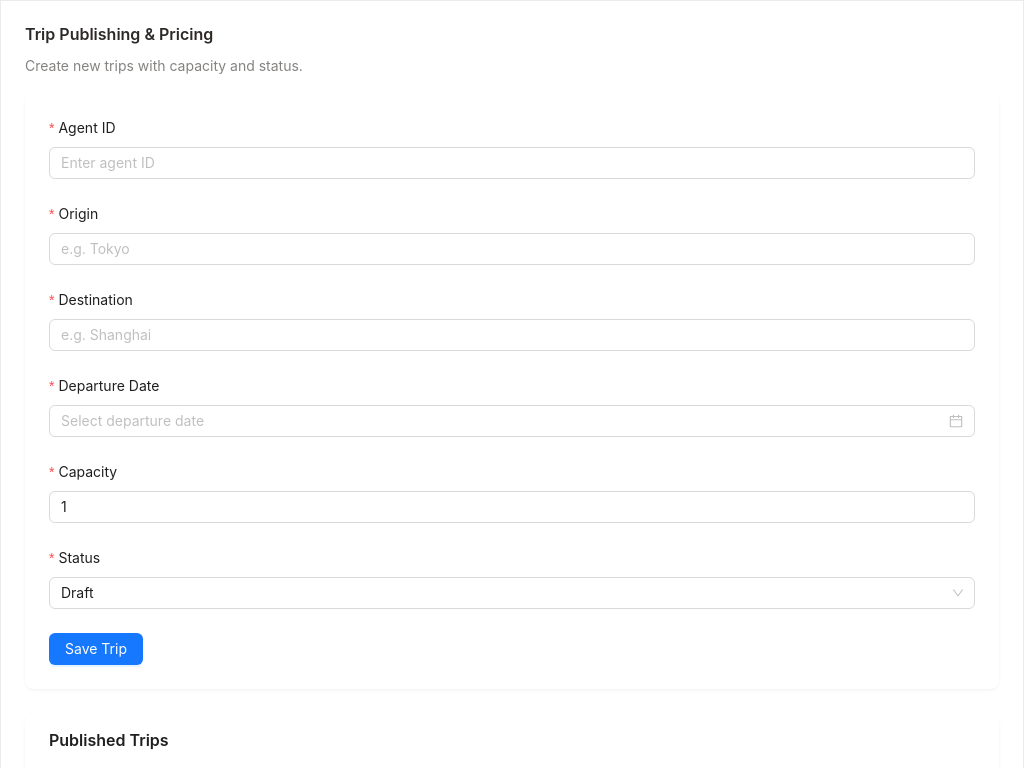
Test: Trips page › validates required fields
Click the button "Save Trip" at (96,649), box left=49, top=633, right=143, bottom=665
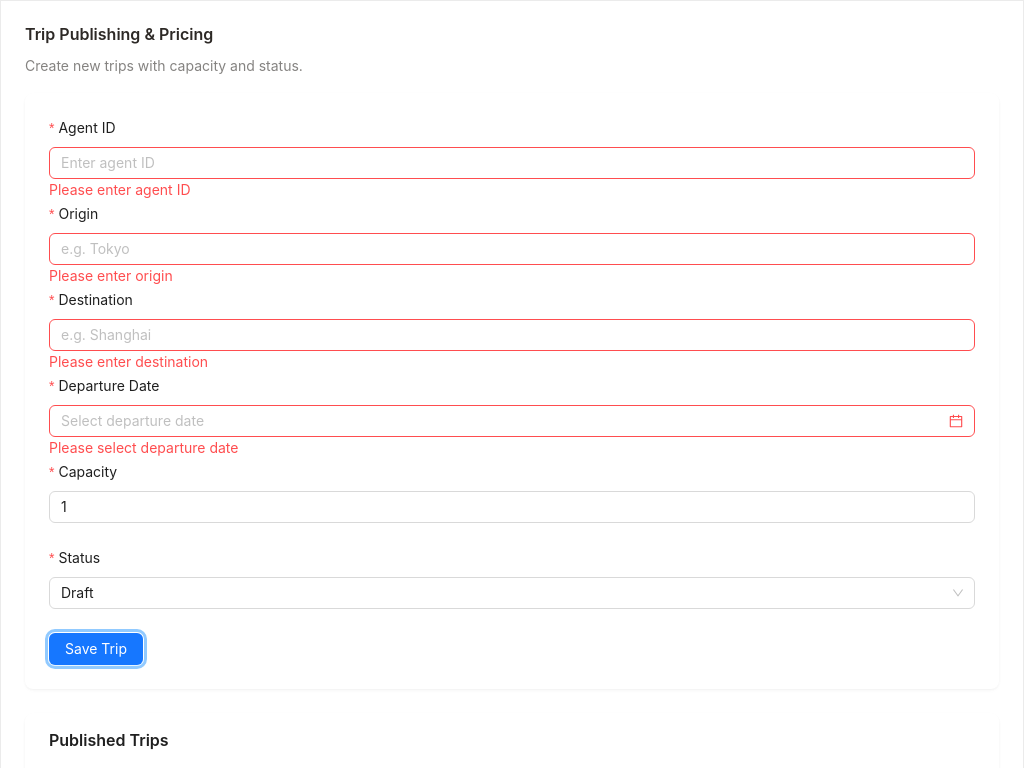
Now the text "Please enter agent ID" is shown, box left=49, top=181, right=190, bottom=198
Now the text "Please enter origin" is shown, box left=49, top=267, right=173, bottom=284
Now the text "Please enter destination" is shown, box left=49, top=353, right=208, bottom=370
